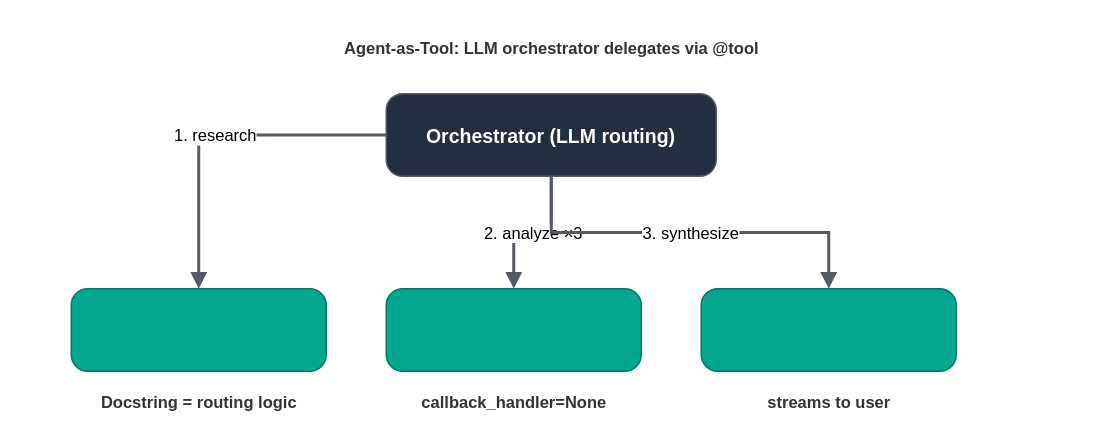
Image size: 1101x444. Some labels were removed from this diagram. The shapes that lost their labels are listed below. From the top down, each one's centre as x and y in pixels, then its label:
At point 198,329: "@tool researcher_agent".
At point 513,329: "@tool analyzer_agent".
At point 828,329: "@tool synthesizer_agent".
